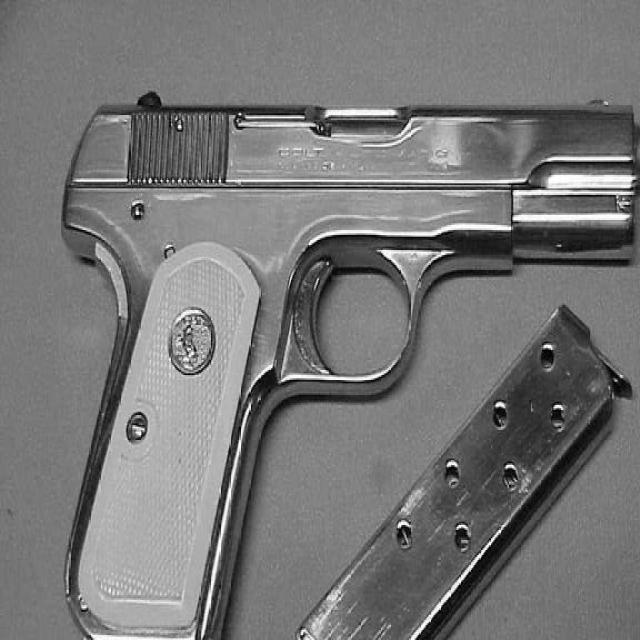gun: (60, 90, 637, 638)
